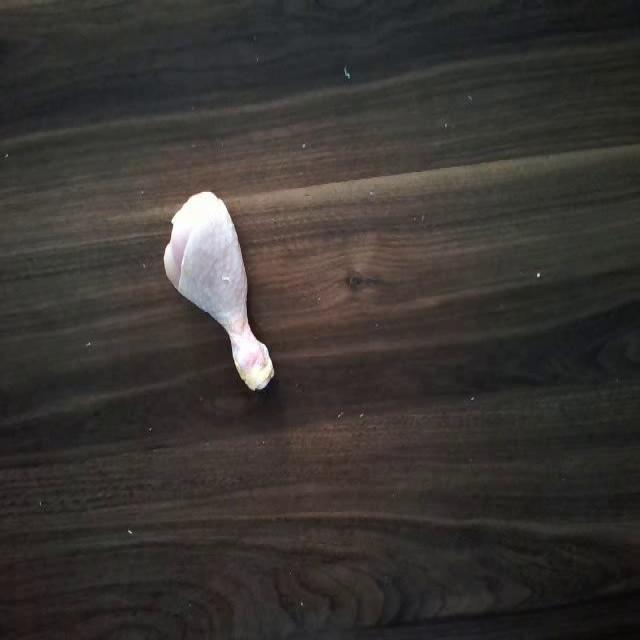leg: (157, 187, 281, 402)
